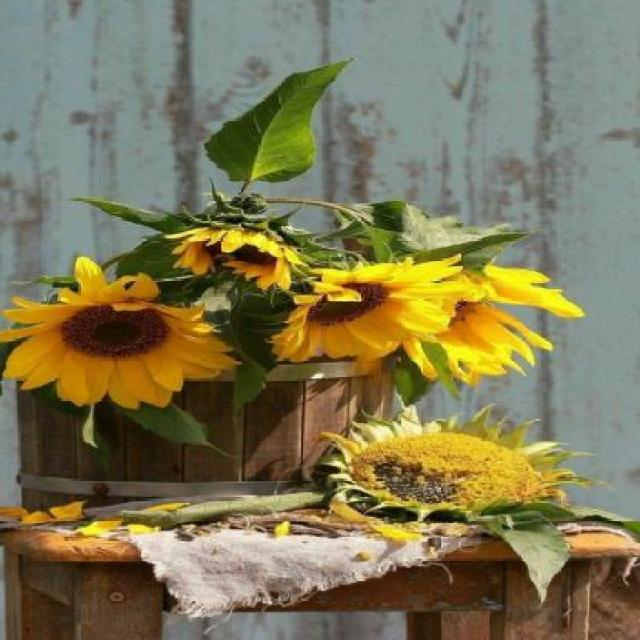sunflower: (4, 254, 230, 418), (314, 398, 586, 526), (267, 249, 478, 375), (160, 206, 308, 294)
